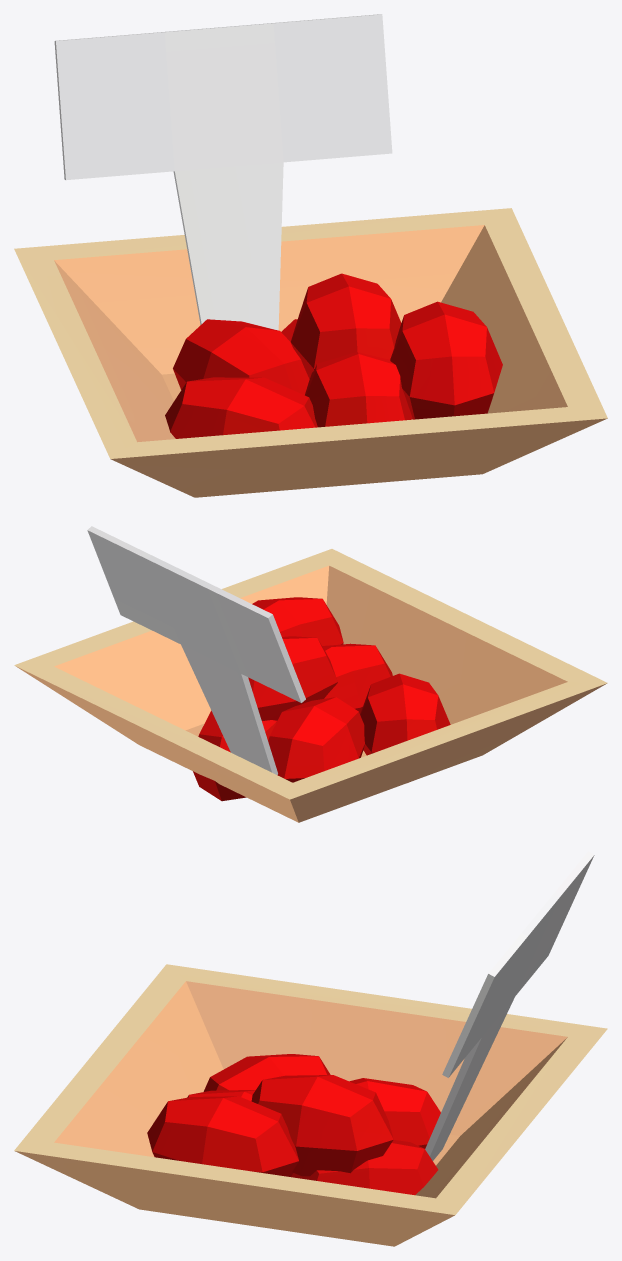
Rendered from redSeeds-positioned.glb.
3 views of the same model, one above another, from view 1: azimuth 30°, elevation 25°; view 2: azimuth 150°, elevation 25°; view 3: azimuth 270°, elevation 25° (orthographic). The views are drawn at different scales.
Parts seen in each view (by area): view 1: redSeeds; view 2: redSeeds; view 3: redSeeds.
Part boxes in pixels (x1,y1,x2,y2): redSeeds: [14, 14, 607, 497]; redSeeds: [14, 526, 607, 822]; redSeeds: [14, 851, 607, 1246].
Size of the model in its own units: 0.5116 by 0.2989 by 0.5116.
1 material, 1 textured.
